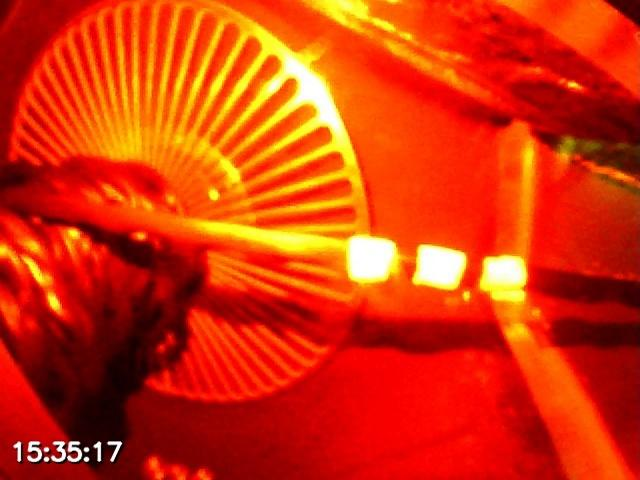white-dots: (344, 234, 528, 303)
